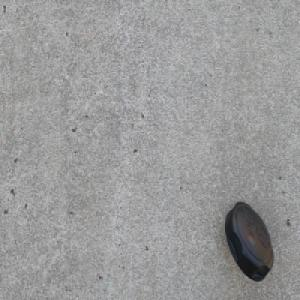FuelCap: (224, 201, 274, 284)
